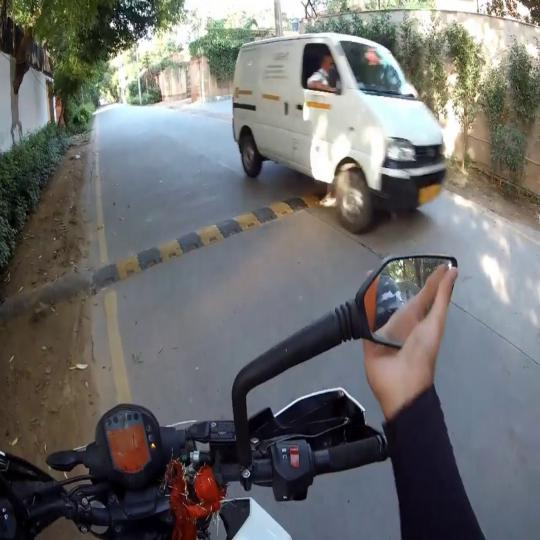Speed Bump: (88, 194, 304, 290)
